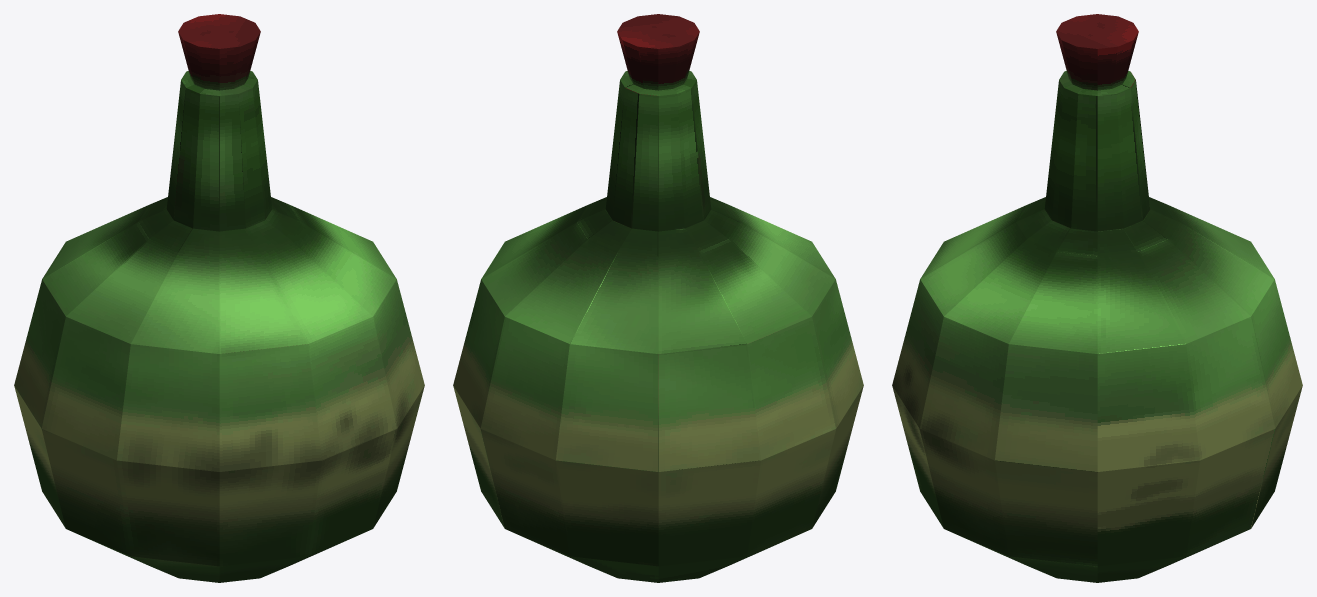
File: tavern_wine_bottle_02.glb
3 views of the same model, side by side, from view 1: azimuth 30°, elevation 25°; view 2: azimuth 150°, elevation 25°; view 3: azimuth 270°, elevation 25° (orthographic).
Parts seen in each view (by area): view 1: tavern_wine_bottle_02; view 2: tavern_wine_bottle_02; view 3: tavern_wine_bottle_02.
Boxes of the visible parts, left/top/right/bottom form: tavern_wine_bottle_02: left=14, top=14, right=424, bottom=582; tavern_wine_bottle_02: left=453, top=14, right=863, bottom=582; tavern_wine_bottle_02: left=892, top=14, right=1302, bottom=582.
Size of the model in its own units: 0.332 by 0.4612 by 0.332.
Materials: 1 (1 with a texture image).
